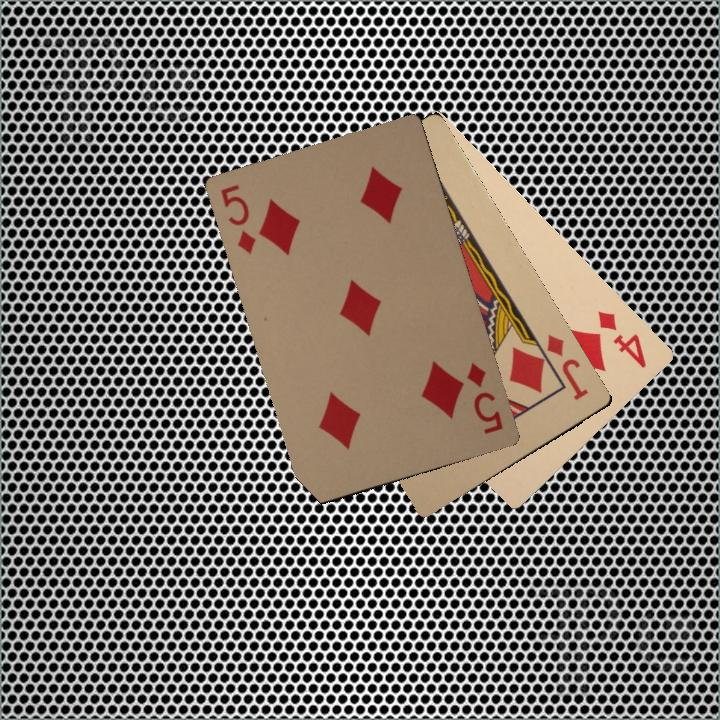4d: (593, 307, 649, 371)
5d: (463, 359, 506, 437), (216, 180, 259, 257)
Jd: (542, 331, 591, 403)
